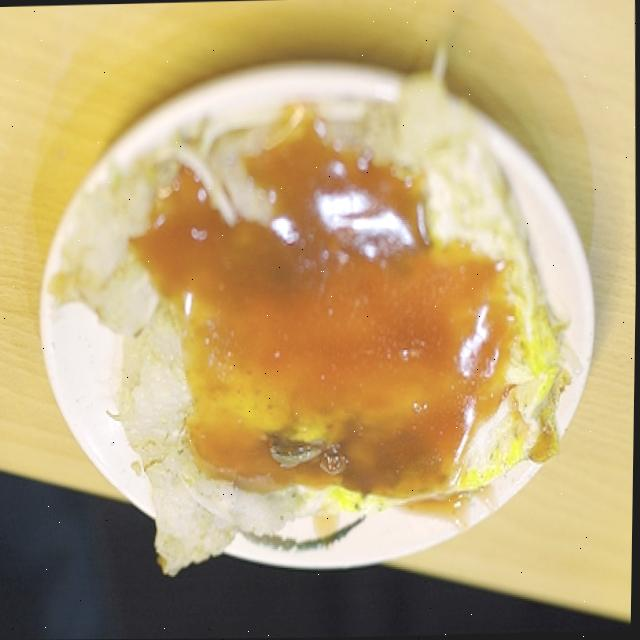熟制海鲜: (30, 46, 600, 587)
